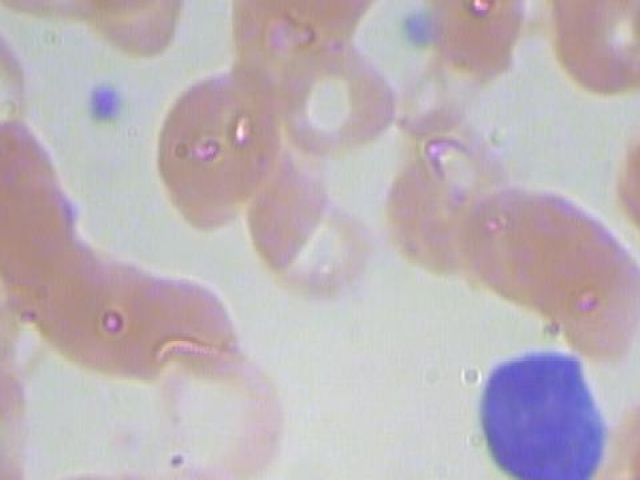Platelets: (79, 66, 137, 133), (388, 0, 434, 53)
RBC: (152, 60, 293, 231), (96, 251, 249, 405), (29, 227, 182, 381), (141, 343, 294, 480), (265, 34, 405, 166), (237, 157, 377, 289), (260, 191, 399, 323), (500, 173, 618, 325), (449, 160, 567, 312), (385, 130, 503, 282), (541, 214, 640, 366), (0, 151, 89, 299), (421, 0, 539, 81), (541, 0, 640, 96), (0, 101, 58, 249), (71, 0, 205, 62), (0, 261, 41, 405), (608, 93, 640, 269), (0, 16, 43, 145), (53, 0, 187, 36), (596, 0, 640, 106), (0, 364, 39, 480), (31, 453, 149, 480), (0, 0, 101, 25), (627, 386, 640, 480)
WBC: (464, 339, 626, 480)
